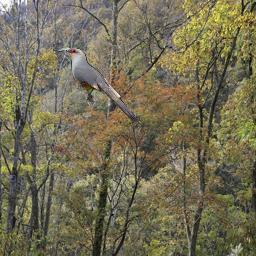Cuckoo: (53, 47, 142, 125)
